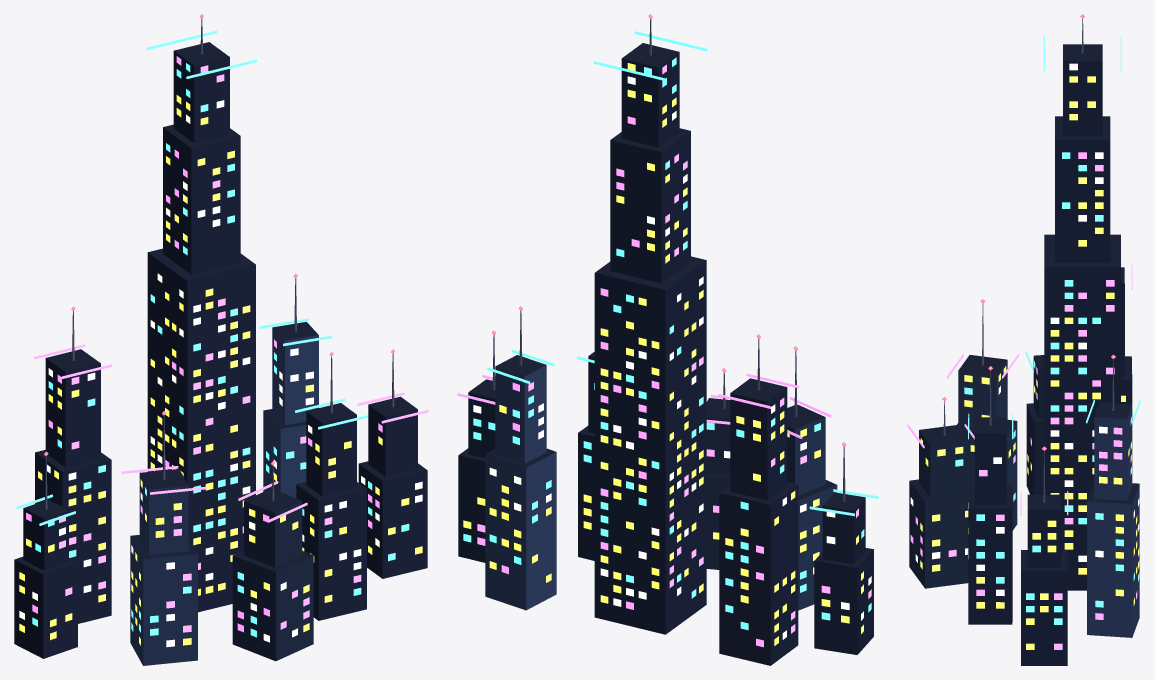
File: W1_Mid_TowersB.fbx
3 renders of one model, left to right at view 1: azimuth 30°, elevation 25°; view 2: azimuth 150°, elevation 25°; view 3: azimuth 270°, elevation 25°, orthographic. The views are drawn at different scales.
Visible parts, largest first — view 1: W1_Mid_TowersB; view 2: W1_Mid_TowersB; view 3: W1_Mid_TowersB.
Part boxes in pixels (left/top/right/bottom): W1_Mid_TowersB: left=14, top=14, right=428, bottom=665; W1_Mid_TowersB: left=457, top=14, right=878, bottom=665; W1_Mid_TowersB: left=907, top=14, right=1140, bottom=665.
Bounding box in the file's own units: 113 × 161 × 60.86.
